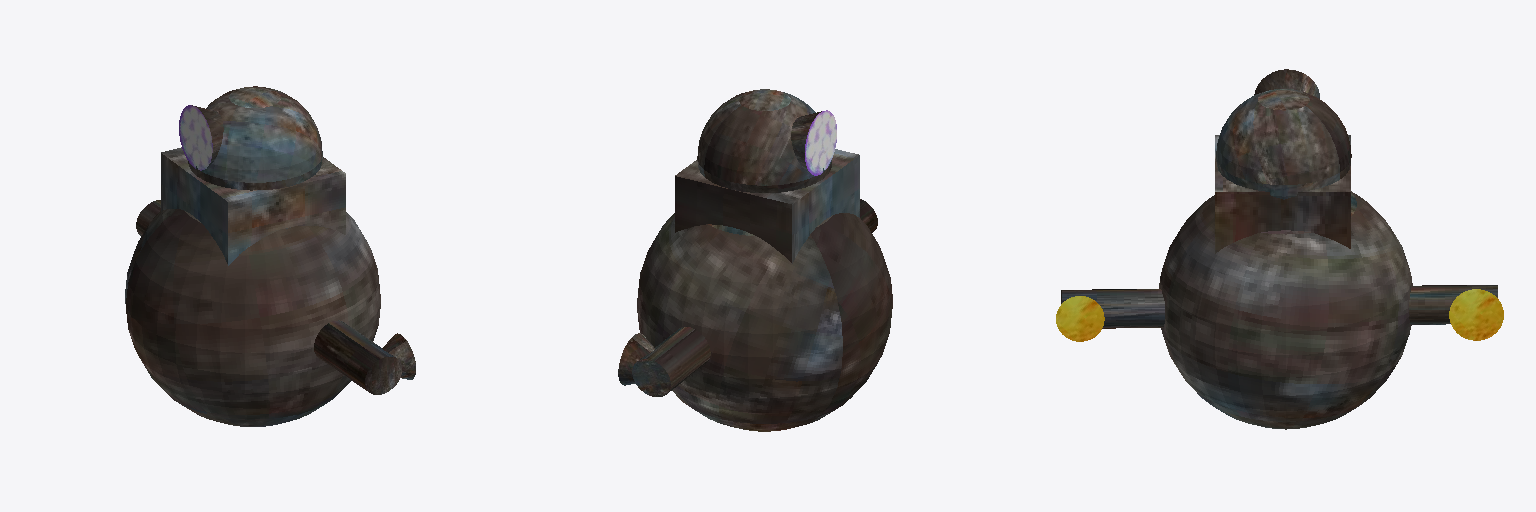
3 views of the same model, side by side, from view 1: azimuth 30°, elevation 25°; view 2: azimuth 150°, elevation 25°; view 3: azimuth 270°, elevation 25° (orthographic).
Parts seen in each view (by area): view 1: Sphere, Cube_Cube.001, Sphere.001, Cylinder, Cone.002, Cone.001; view 2: Sphere, Cube_Cube.001, Sphere.001, Cylinder, Cone.002, Cone; view 3: Sphere, Sphere.001, Cube_Cube.001, Cylinder, Cone, Cone.001, Cone.002.
Part boxes in pixels (left/top/right/bottom): Sphere: left=125, top=209, right=380, bottom=426; Cube_Cube.001: left=161, top=147, right=345, bottom=265; Sphere.001: left=188, top=86, right=322, bottom=190; Cylinder: left=136, top=200, right=401, bottom=394; Cone.002: left=179, top=105, right=223, bottom=170; Cone.001: left=382, top=333, right=415, bottom=379; Sphere: left=637, top=213, right=892, bottom=431; Cube_Cube.001: left=675, top=149, right=859, bottom=263; Sphere.001: left=697, top=89, right=831, bottom=192; Cylinder: left=632, top=199, right=877, bottom=396; Cone.002: left=791, top=110, right=836, bottom=175; Cone: left=618, top=333, right=654, bottom=385; Sphere: left=1159, top=191, right=1412, bottom=429; Sphere.001: left=1216, top=89, right=1351, bottom=199; Cube_Cube.001: left=1215, top=135, right=1350, bottom=253; Cylinder: left=1061, top=285, right=1497, bottom=328; Cone: left=1449, top=289, right=1503, bottom=340; Cone.001: left=1056, top=296, right=1104, bottom=341; Cone.002: left=1254, top=69, right=1319, bottom=98.
Size of the model in its own units: 3.78 by 5.25 by 6.6.
2 materials, 1 textured.